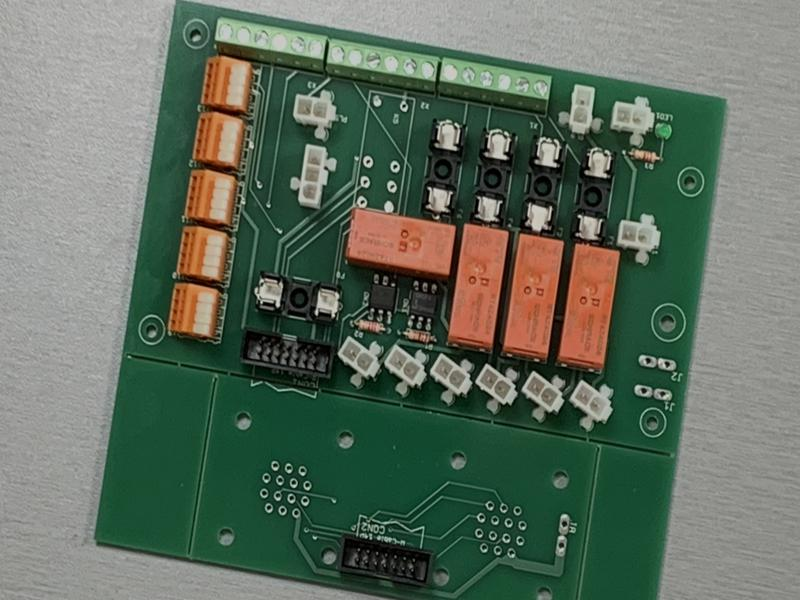LED: (652, 118, 674, 143)
Resistor: (352, 316, 387, 336), (627, 144, 662, 164), (403, 327, 437, 345)
